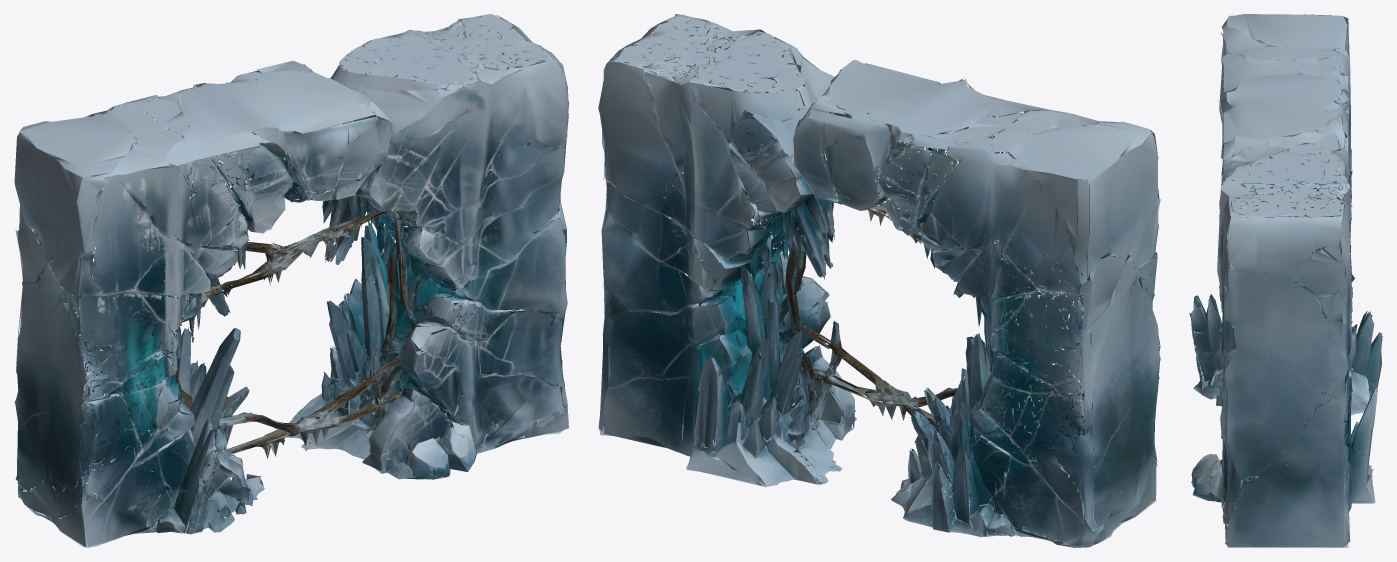
Rendered from barrier_ice_fractured.glb.
3 views of the same model, side by side, from view 1: azimuth 30°, elevation 25°; view 2: azimuth 150°, elevation 25°; view 3: azimuth 270°, elevation 25° (orthographic). The views are drawn at different scales.
Visible parts, largest first — view 1: node_0; view 2: node_0; view 3: node_0.
Boxes of the visible parts, x1,y1,x2,y2 form: node_0: (14, 14, 569, 547); node_0: (598, 14, 1160, 547); node_0: (1189, 14, 1382, 547).
Size of the model in its own units: 0.9703 by 0.7026 by 0.371.
1 material, 1 textured.
